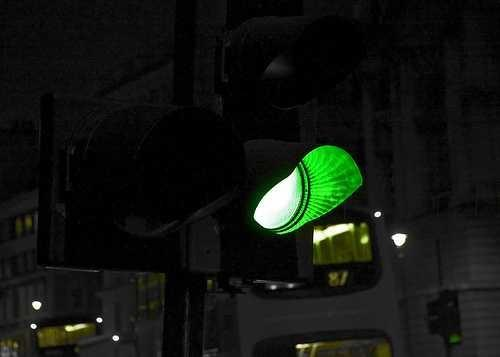green: (243, 134, 358, 248)
